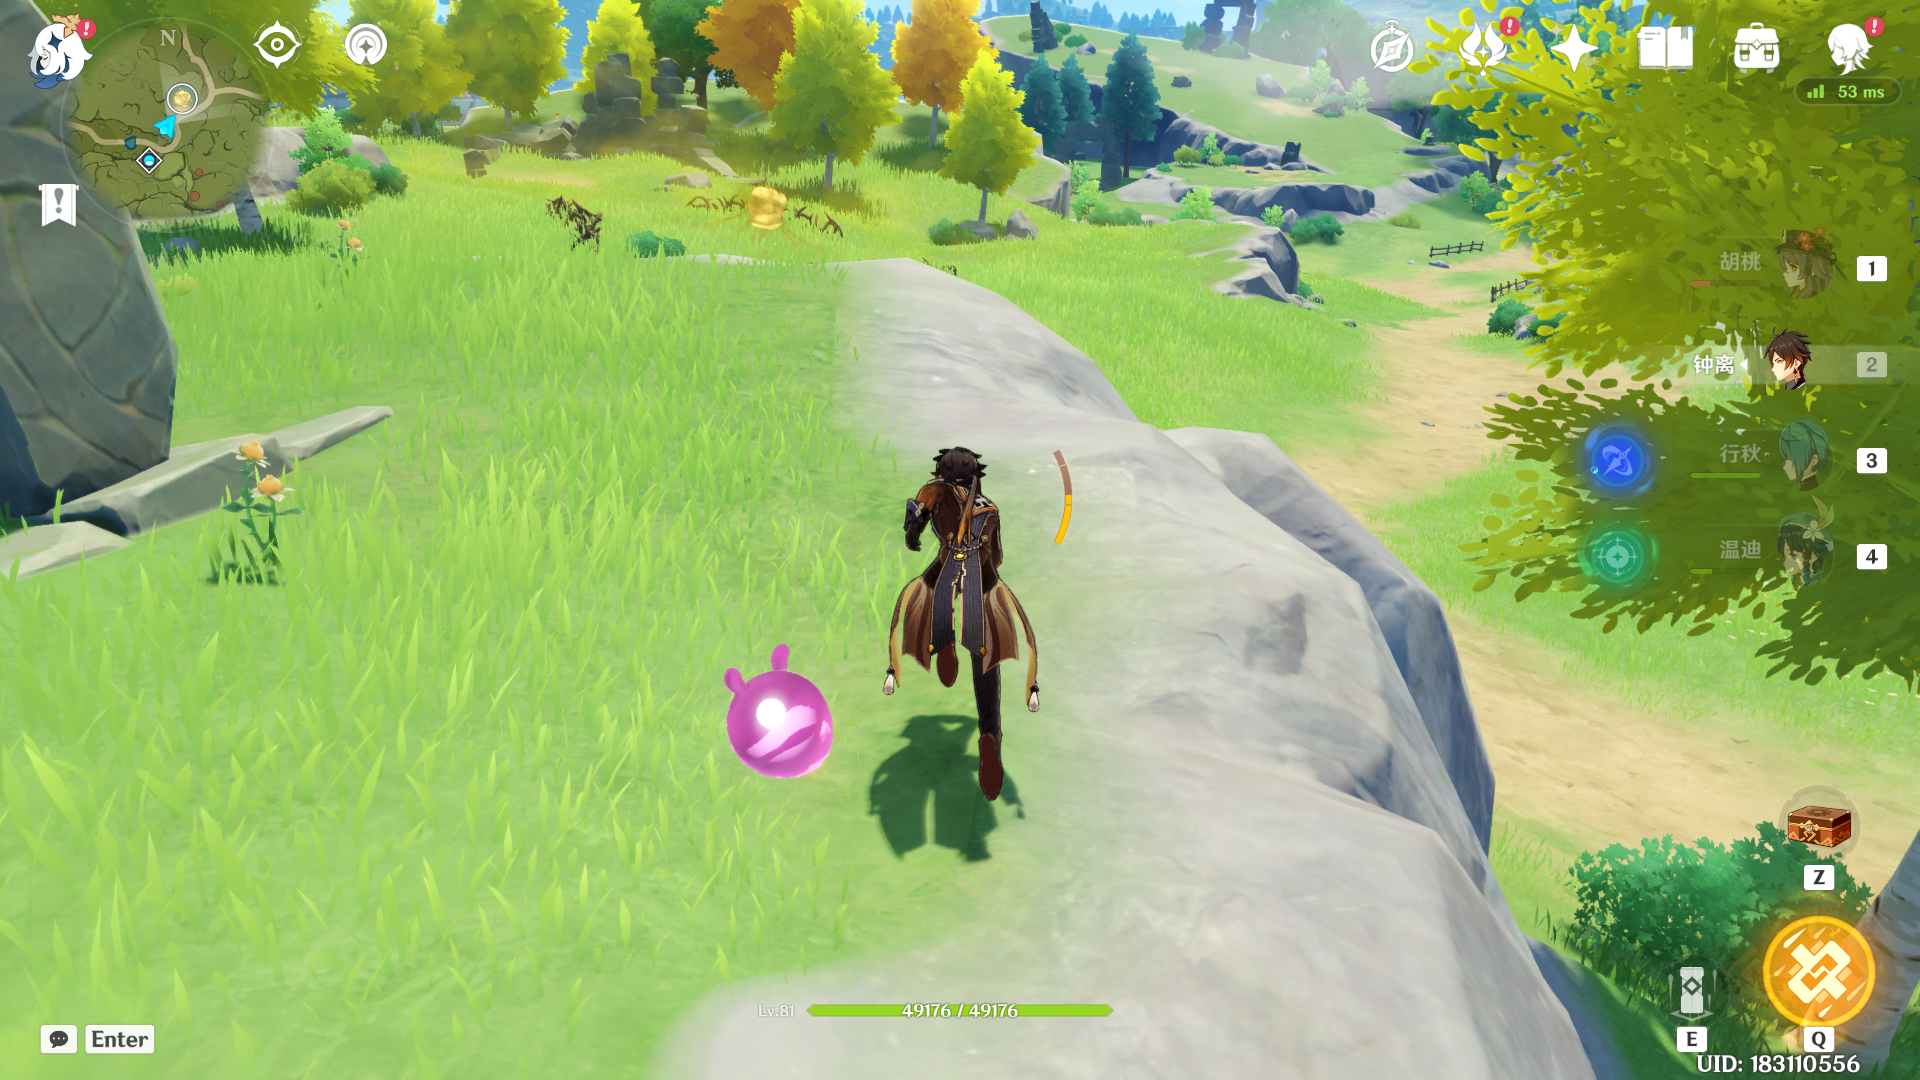character: (800, 423, 1112, 837)
